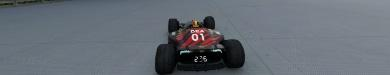Car: (154, 15, 245, 73)
grass: (0, 0, 389, 74)
obstacles-Borders: (0, 0, 67, 8)
